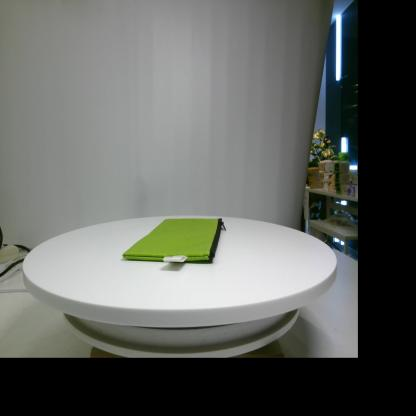Stationery: (122, 218, 226, 262)
